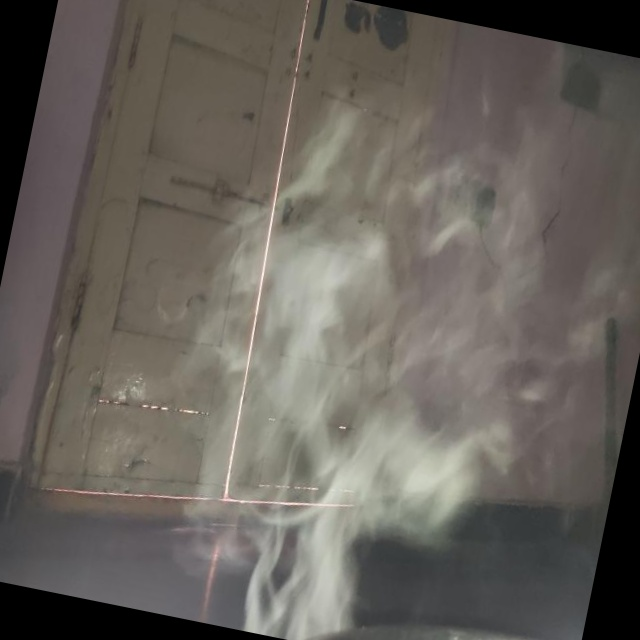smoke: (233, 180, 576, 640)
